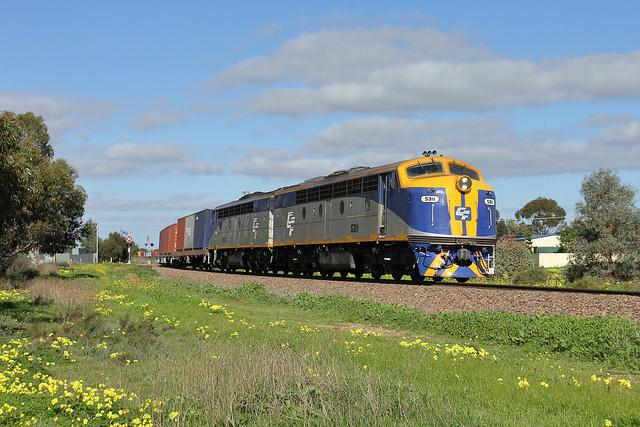Train: (158, 149, 500, 282)
